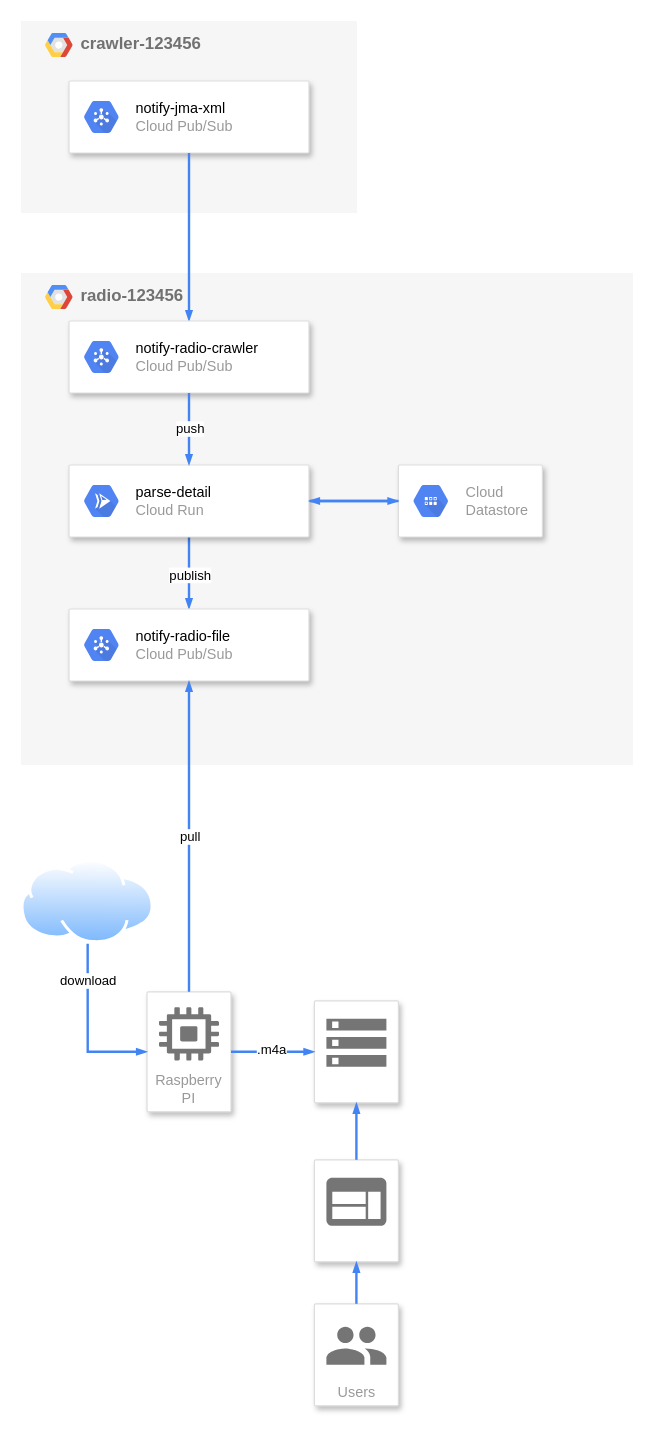
This 653x1435 diagram has some shape labels left out. Here are the shapes that lost their labels. From the top down, the centre of each, then its label:
At pixel 357 1053: "Storage".
At pixel 357 1212: "PLEX".
